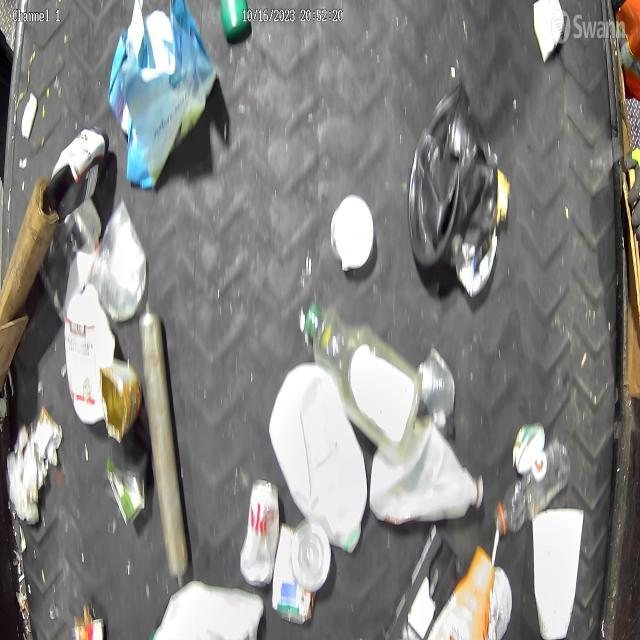can: (240, 479, 280, 588), (99, 356, 142, 444), (290, 518, 332, 592)
milk_jug: (268, 362, 368, 556), (369, 412, 478, 524)
non_white_jug: (408, 84, 498, 266)
plastic_bottle: (494, 438, 570, 538)
